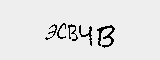В: (96, 24, 118, 51), (66, 23, 78, 44)
С: (56, 22, 69, 41)
Ч: (78, 24, 95, 47)
Э: (45, 22, 57, 41)
